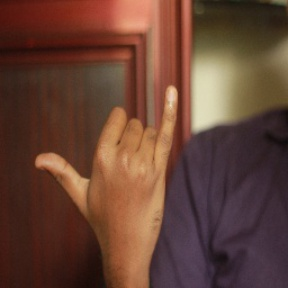J: (35, 83, 183, 247)
